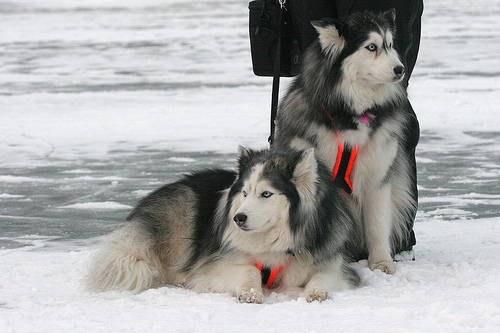dog: (88, 144, 361, 304), (272, 7, 419, 277)
